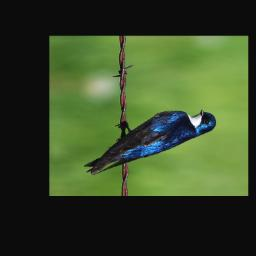Swallow: (81, 108, 219, 176)
